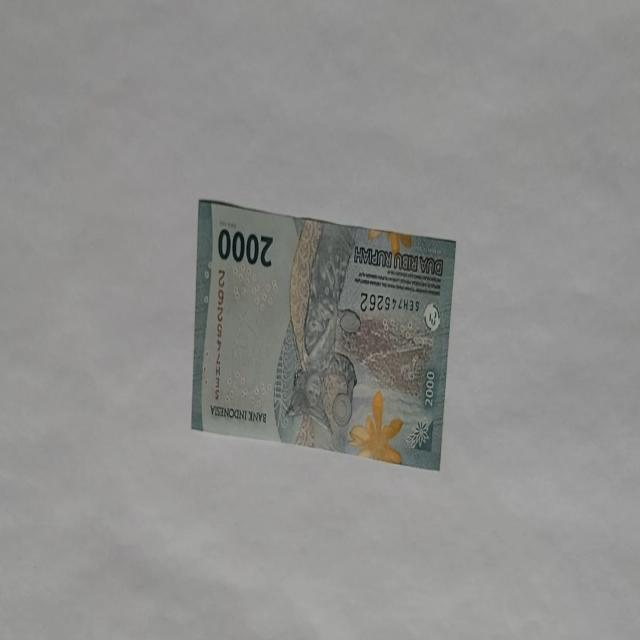dua ribu rupiah: (190, 197, 457, 470), (272, 218, 362, 450)
